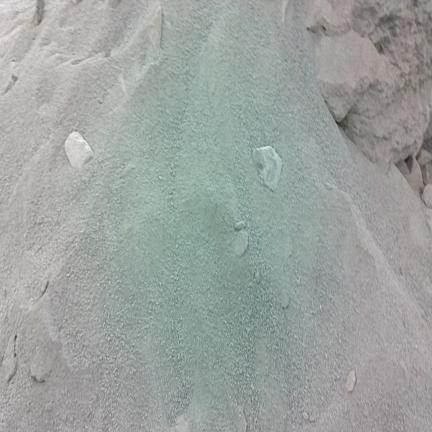Rock: (342, 0, 431, 162), (316, 31, 385, 121), (26, 293, 61, 381), (306, 0, 349, 36), (253, 146, 281, 190), (65, 132, 93, 168), (148, 5, 162, 52), (3, 335, 17, 382), (406, 157, 423, 195), (234, 230, 248, 256), (234, 406, 247, 431), (33, 0, 44, 25), (417, 149, 431, 165), (396, 160, 409, 177), (421, 162, 431, 184), (346, 370, 356, 392), (422, 185, 431, 208), (281, 290, 289, 309), (234, 220, 245, 232), (255, 270, 260, 283), (303, 412, 308, 420), (310, 416, 315, 422)
